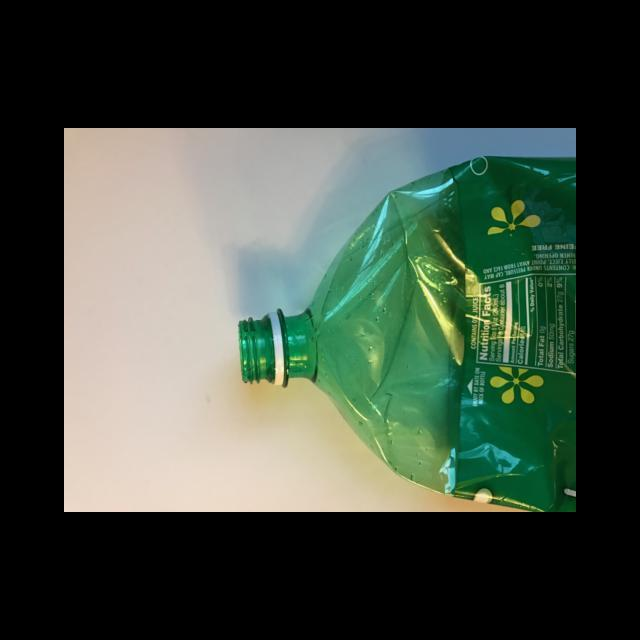plastic: (237, 155, 575, 511), (446, 159, 575, 511)
